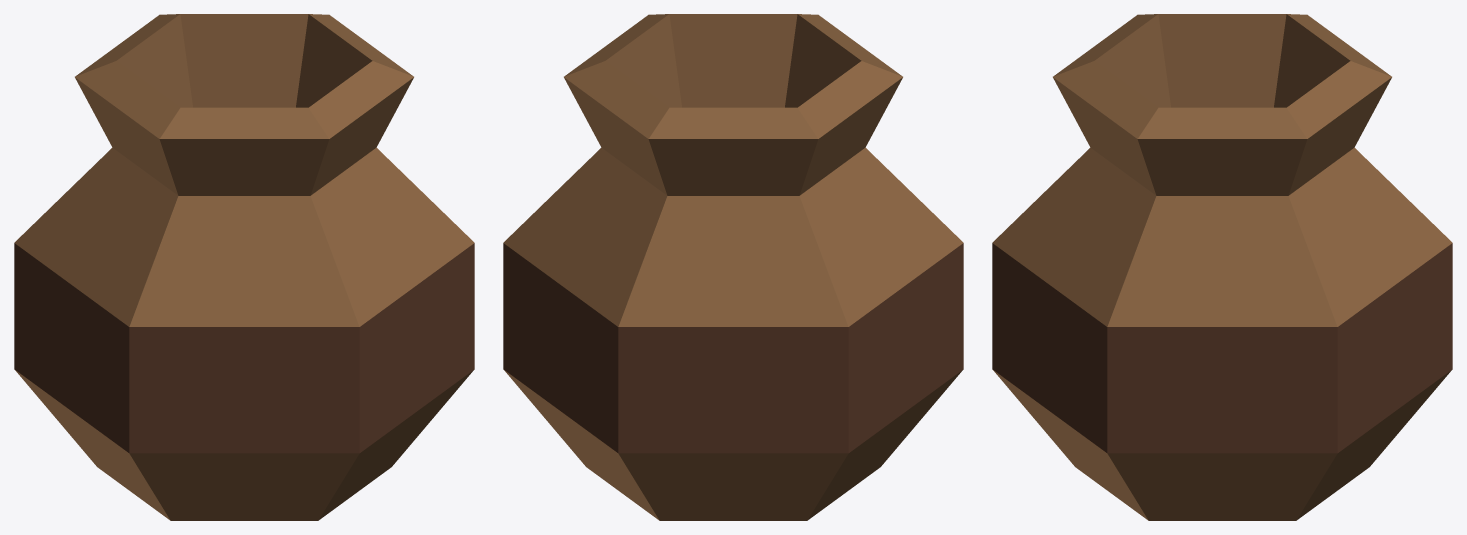
File: Pot_Small.gltf
The picture shows the model from 3 angles, left to right: view 1: azimuth 30°, elevation 25°; view 2: azimuth 150°, elevation 25°; view 3: azimuth 270°, elevation 25°; orthographic projection.
Visible parts, largest first — view 1: Pot_Small2; view 2: Pot_Small2; view 3: Pot_Small2.
Part boxes in pixels (<box>): Pot_Small2: <box>14,14,474,520</box>; Pot_Small2: <box>503,14,963,520</box>; Pot_Small2: <box>992,14,1452,520</box>.
Bounding box in the file's own units: 0.0818 × 0.092 × 0.0945.
1 material, 1 textured.
